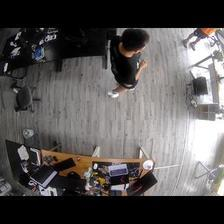normal: (107, 29, 148, 96)
